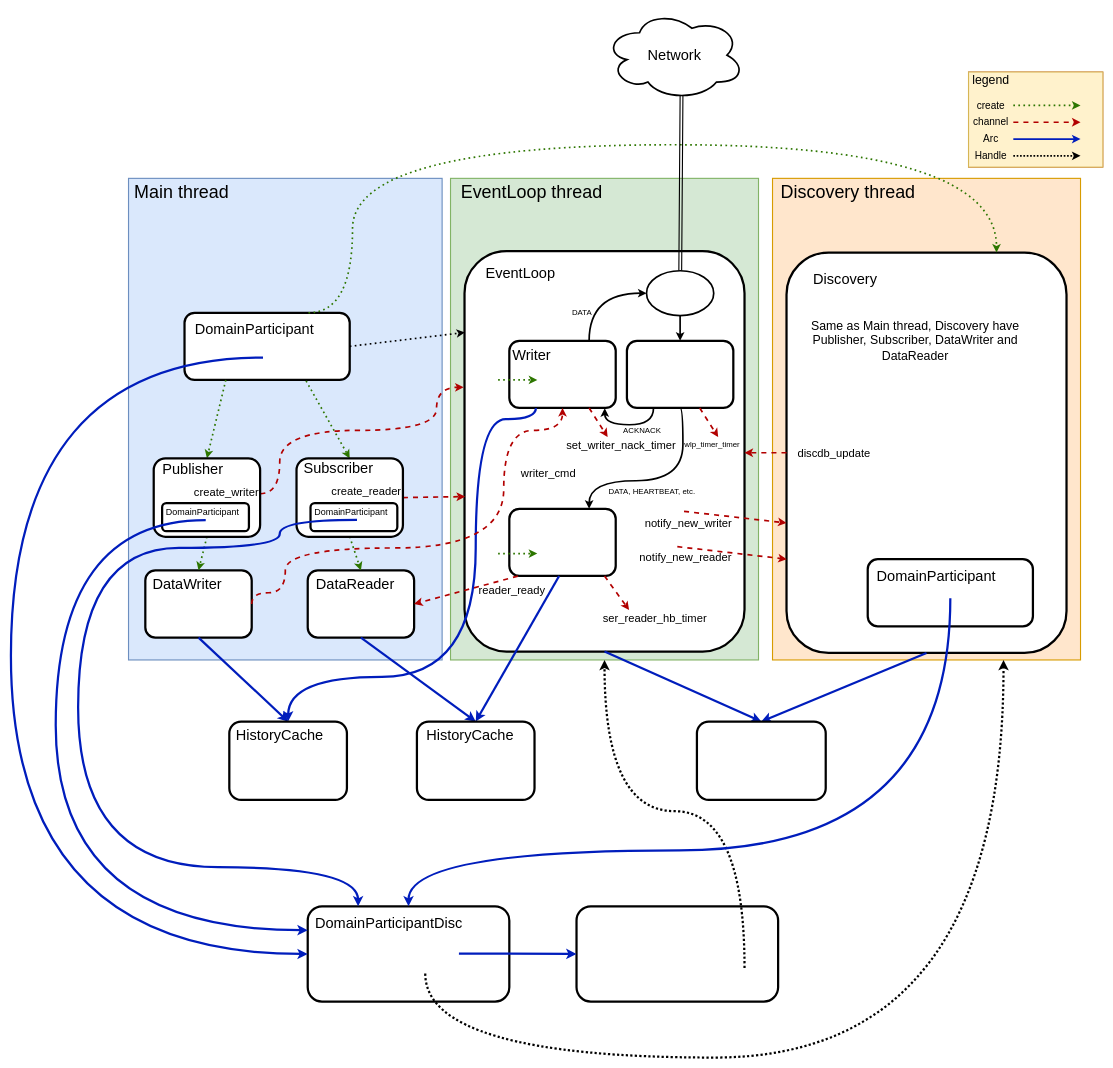
This 1113x1068 diagram has some shape labels left out. The shapes that lost their labels are listed below. From the top down, each one's box as (x1, y1, x2, y2) in pixels, then its label:
(645, 270, 714, 316): Socket
(626, 339, 734, 409): MessageReceiver
(508, 507, 617, 577): Reader
(696, 720, 827, 801): DiscoveryDB
(575, 905, 779, 1002): DomainParticipantInner
